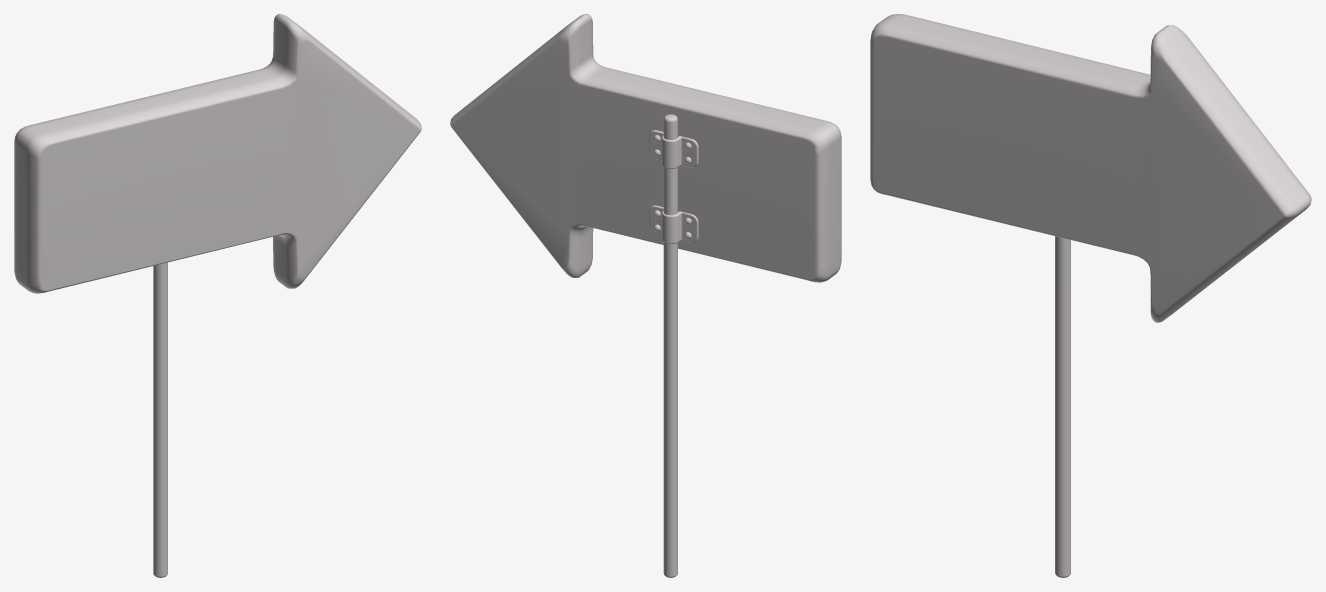
The model's file is arrow.glb.
3 views of the same model, side by side, from view 1: azimuth 30°, elevation 25°; view 2: azimuth 150°, elevation 25°; view 3: azimuth 330°, elevation 25° (orthographic). The views are drawn at different scales.
Parts seen in each view (by area): view 1: aarow.1; view 2: aarow.1; view 3: aarow.1.
Part boxes in pixels (x1,y1,x2,y2): aarow.1: [14, 14, 421, 577]; aarow.1: [450, 14, 841, 577]; aarow.1: [870, 14, 1311, 577].
Bounding box in the file's own units: 0.8013 × 1.06 × 0.116.
1 material, 1 textured.
